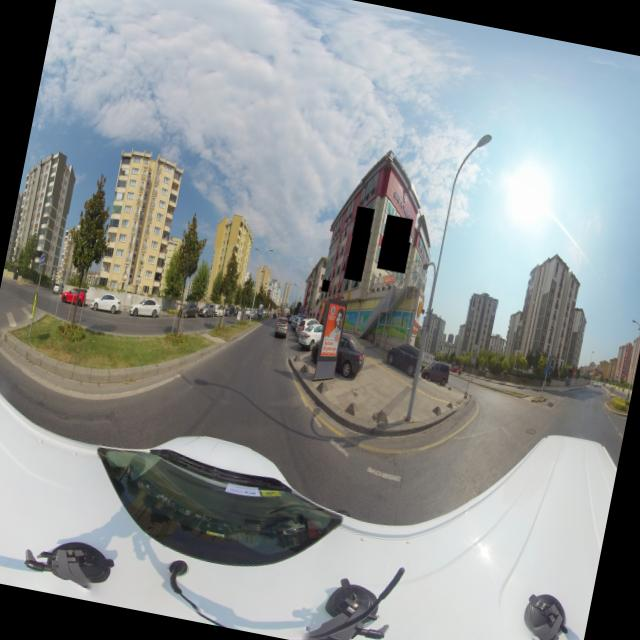SignStore: (381, 237, 406, 274), (386, 215, 408, 252), (352, 210, 375, 237), (348, 233, 371, 257), (344, 260, 365, 279), (321, 281, 330, 291)
